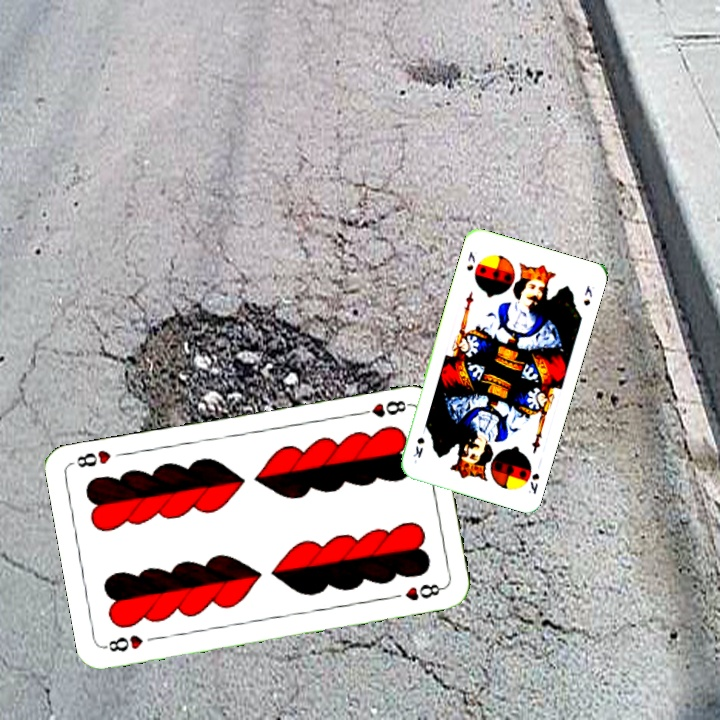H8: (354, 396, 413, 420), (101, 630, 146, 655)
SK: (524, 469, 542, 497), (462, 247, 478, 274)
